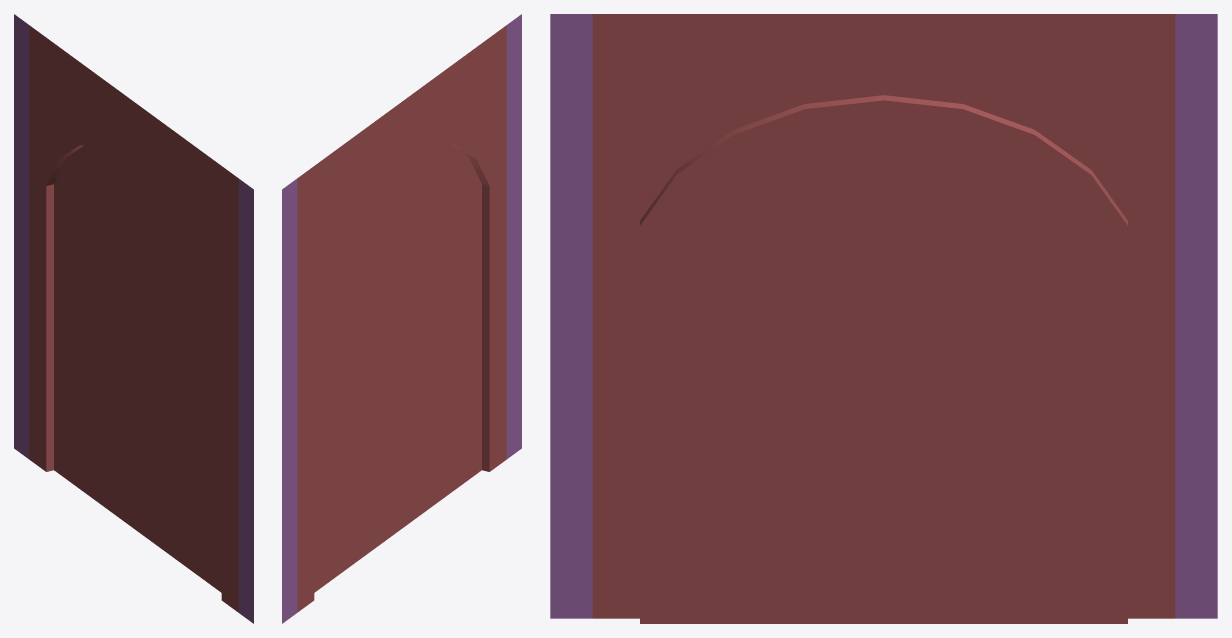
File: ceiling_wall.fbx
3 views of the same model, side by side, from view 1: azimuth 30°, elevation 25°; view 2: azimuth 150°, elevation 25°; view 3: azimuth 270°, elevation 25° (orthographic). The views are drawn at different scales.
Parts seen in each view (by area): view 1: polySurface9, polySurface10, polySurface11; view 2: polySurface9, polySurface10, polySurface11; view 3: polySurface9, polySurface10, polySurface11.
Boxes of the visible parts, <box> form: polySurface9: <box>29,25,238,612</box>; polySurface10: <box>14,14,29,459</box>; polySurface11: <box>238,178,253,623</box>; polySurface9: <box>297,25,506,612</box>; polySurface10: <box>282,178,297,623</box>; polySurface11: <box>506,14,521,459</box>; polySurface9: <box>592,14,1175,623</box>; polySurface10: <box>1175,14,1217,618</box>; polySurface11: <box>550,14,592,618</box>.
Bounding box in the file's own units: 0.0184 × 1 × 1.
